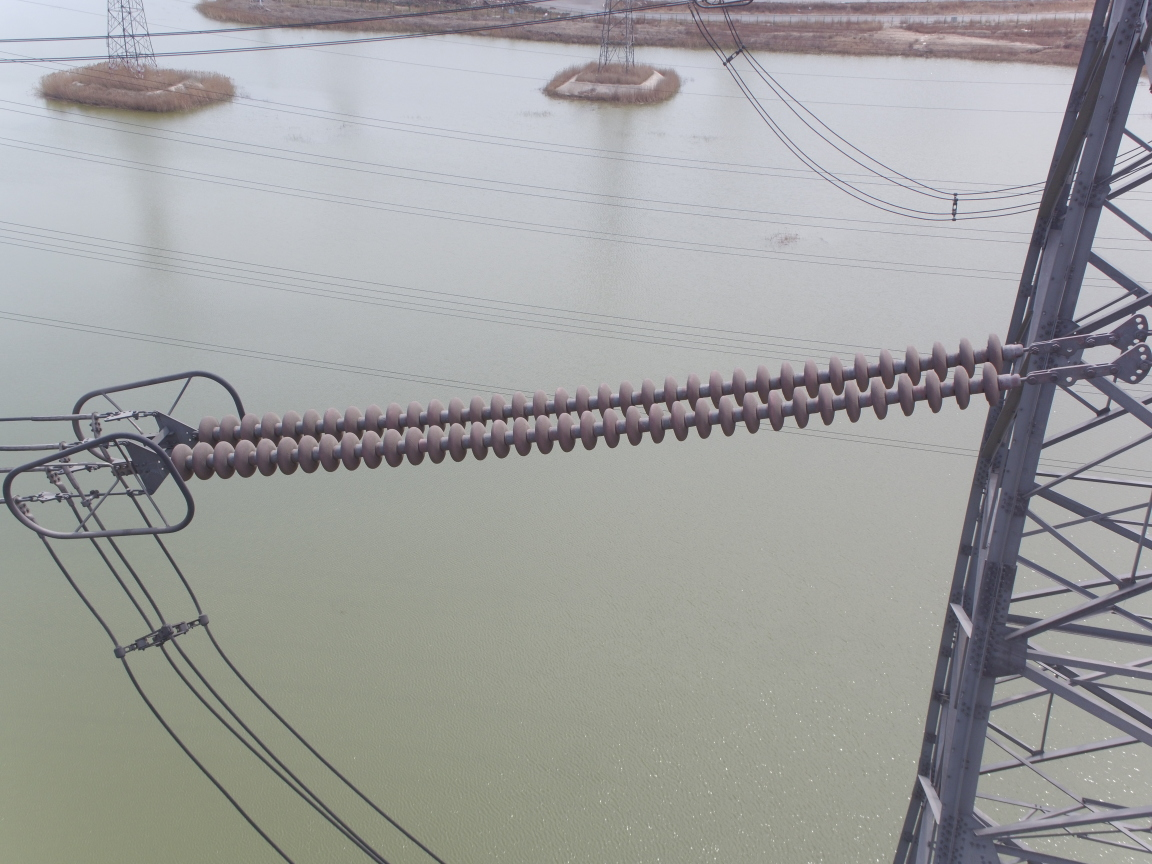insulator: (150, 331, 1079, 484)
